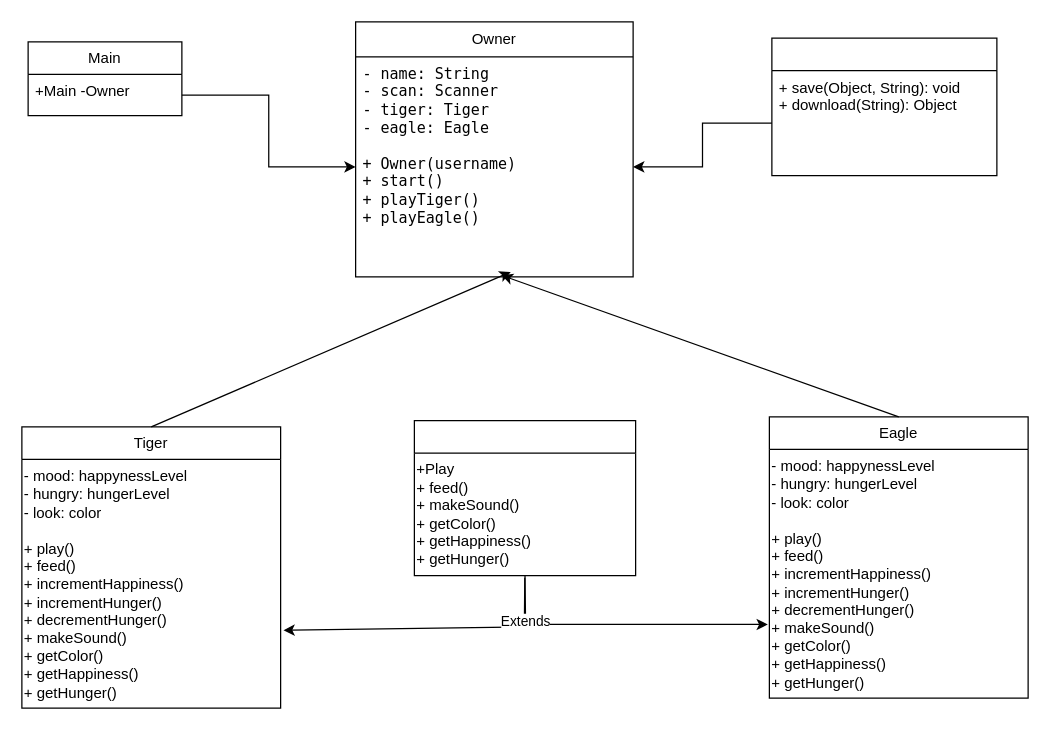
Image size: 1050x730. Some labels were removed from this diagram. Each missing label, with the box of its shape:
Pet: (413, 419, 636, 576)
Serialization: (771, 37, 997, 176)
